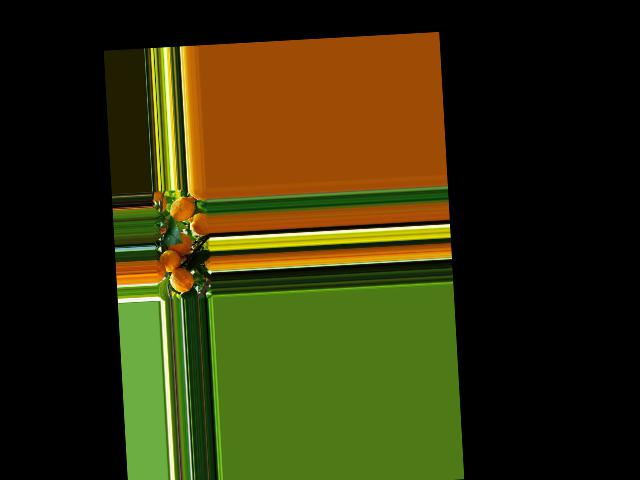lemon: (166, 265, 192, 295)
